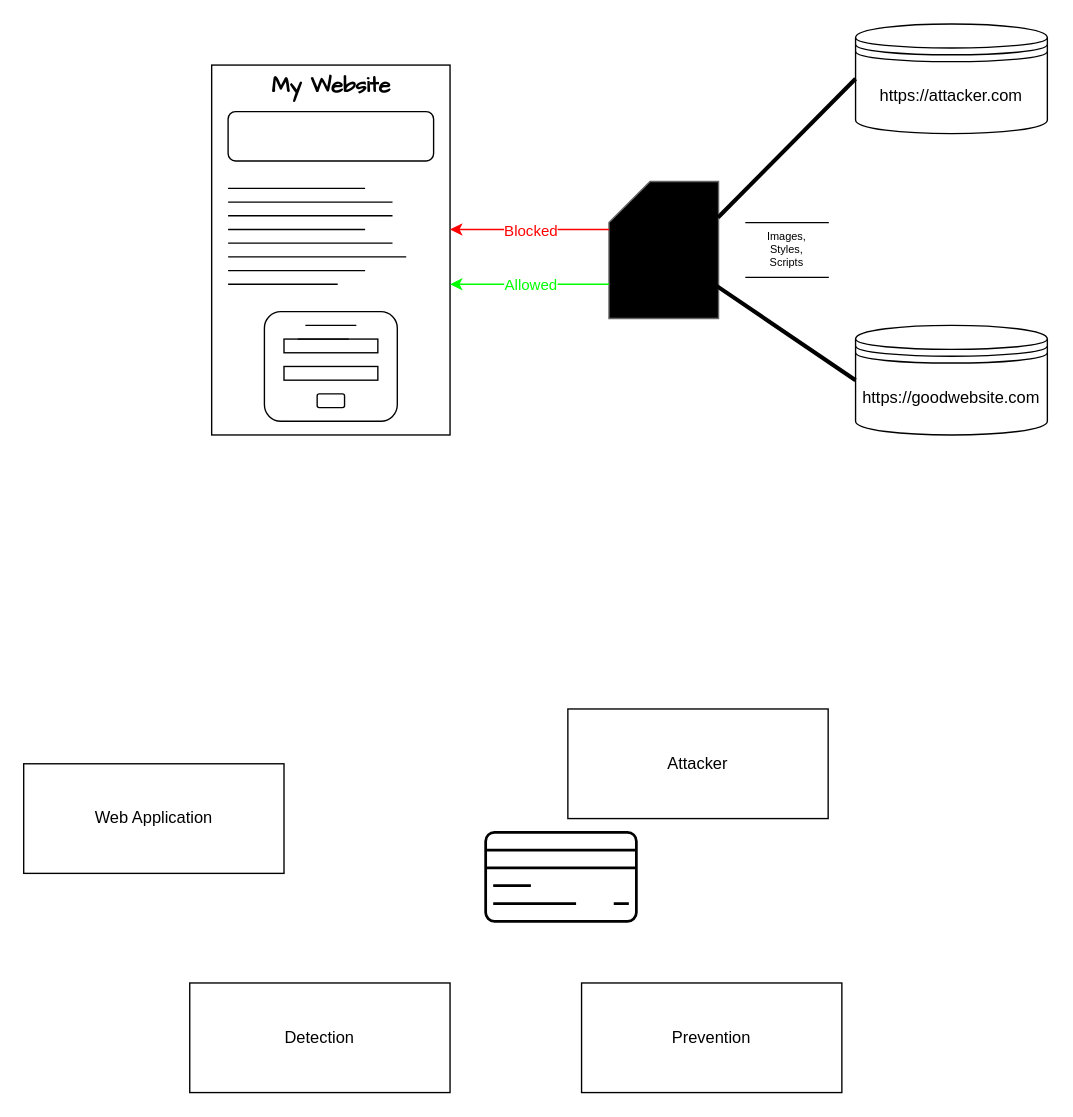
Some shapes in this 1073 by 1117 pixel diagram are drawn without their labels. Here are the shapes that lost their labels. From the top down, the box of each, then its label:
(227, 110, 434, 161): <img>
(608, 180, 719, 319): Content Security Policy
